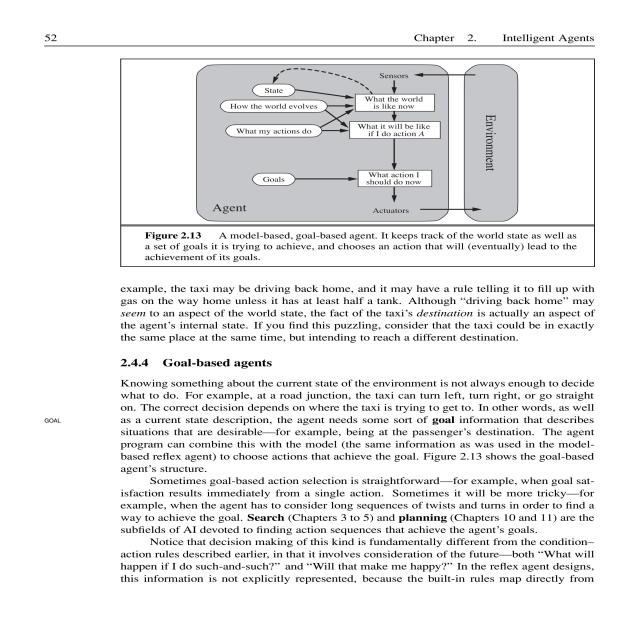diagram: (143, 61, 582, 269)
